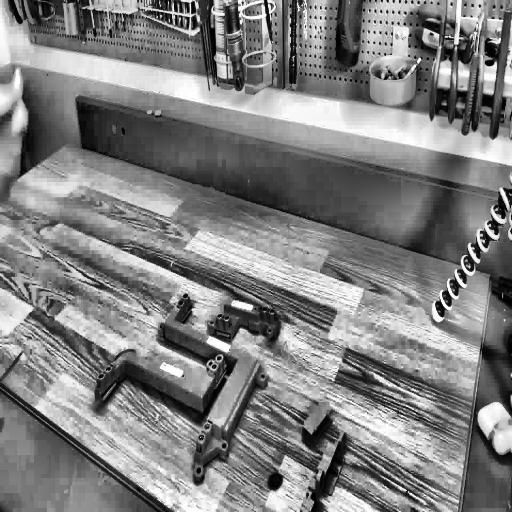busbar: (94, 288, 284, 492)
